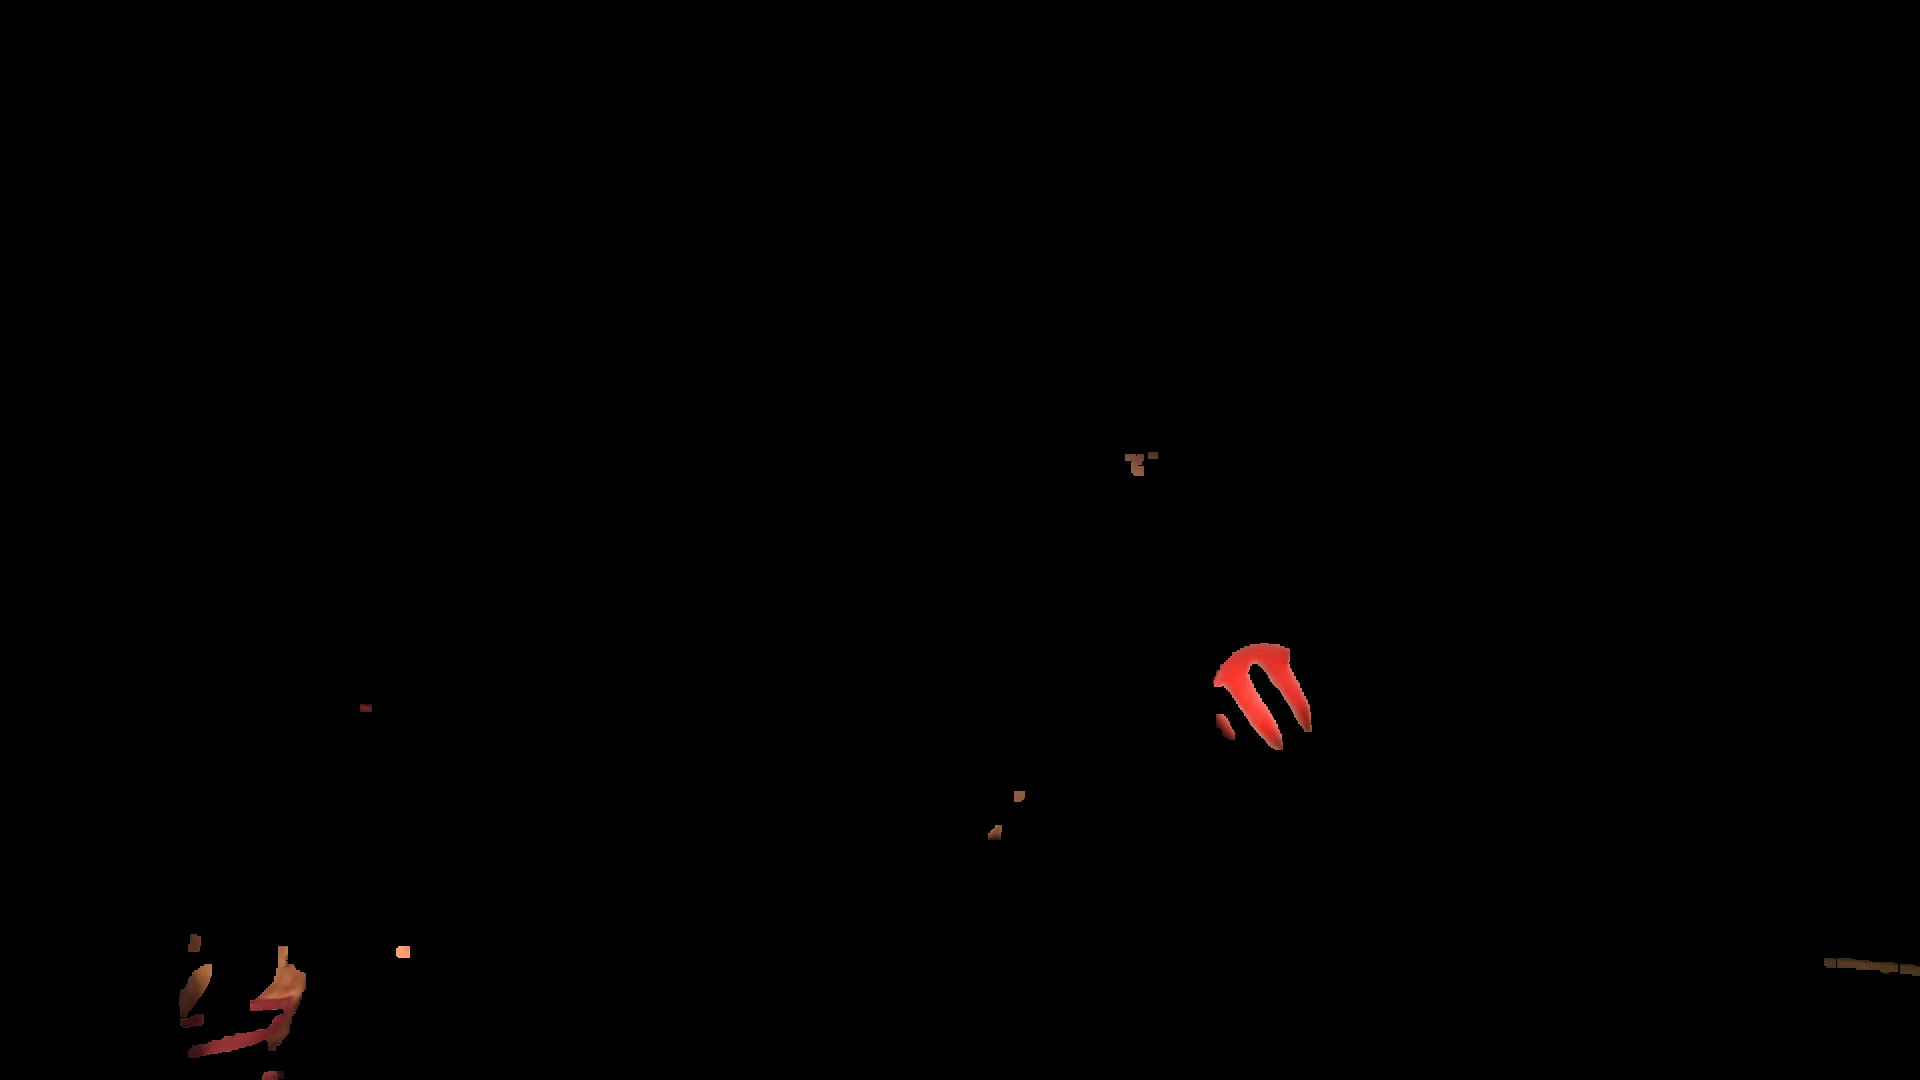Ball: (1205, 640, 1327, 756)
